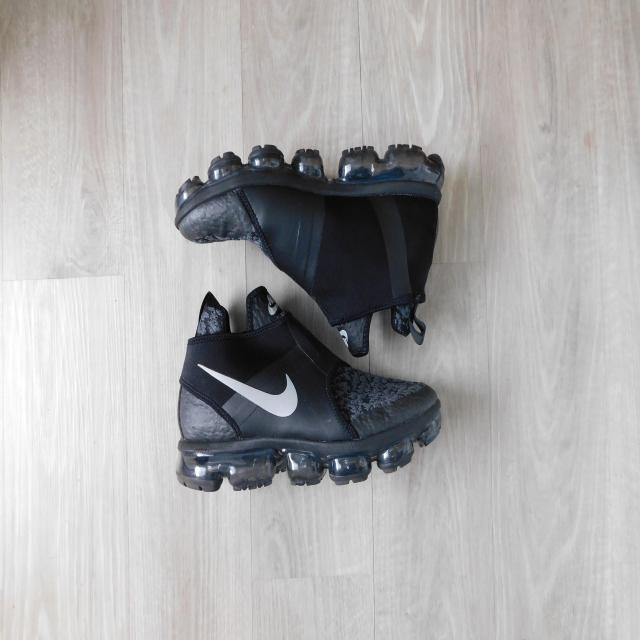shoe: (159, 289, 443, 489), (154, 139, 446, 332)
